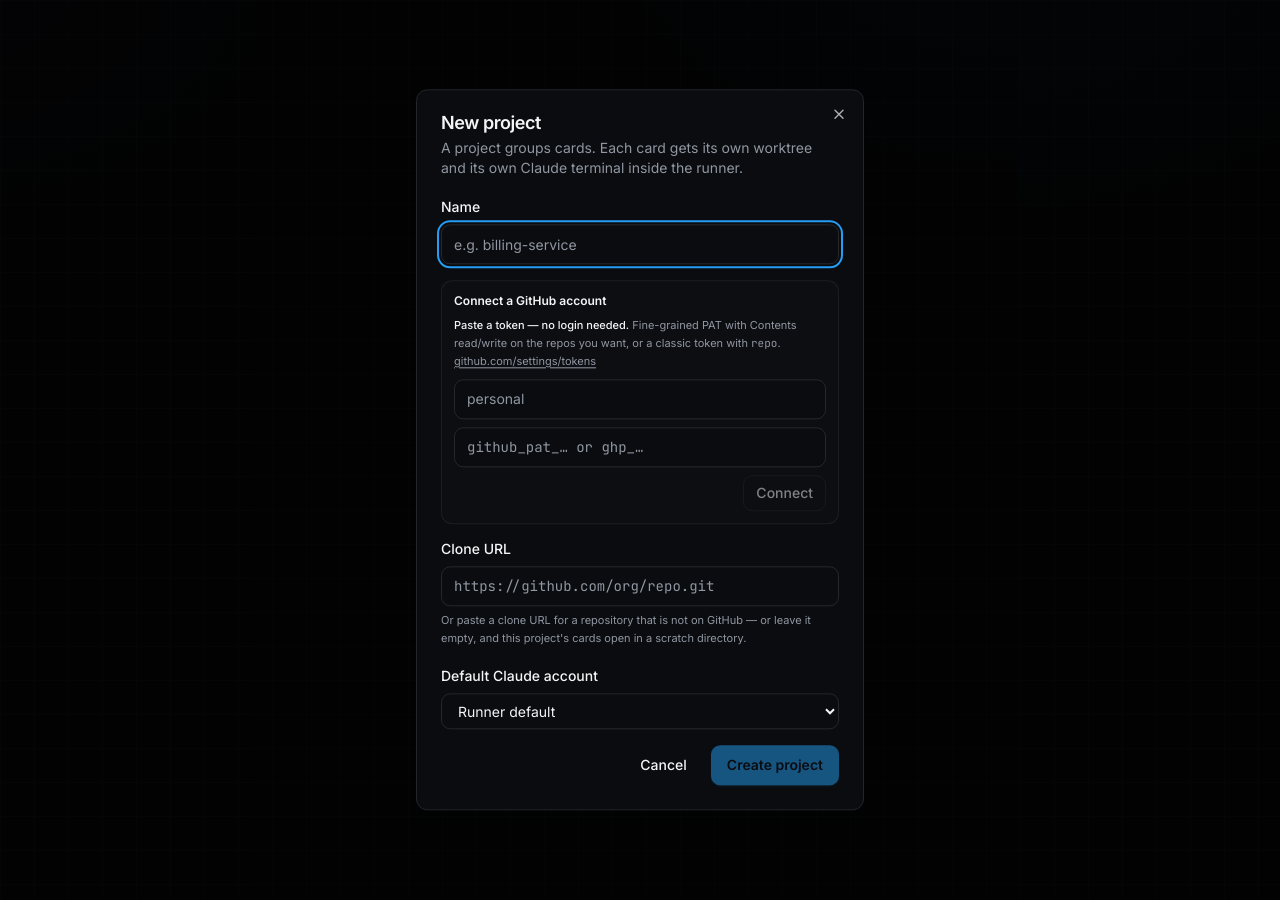
Test: ProjectFormDialog — connecting an account from inside the dialog › cannot be submitted without a token — the name is optional
The image size is (1280, 900).
Expected: the button "Connect" is disabled, [743,475,826,511]
Step 1. Type "ghp_x" into the password field named "Access token" → (640,447), box [454,427,826,467]
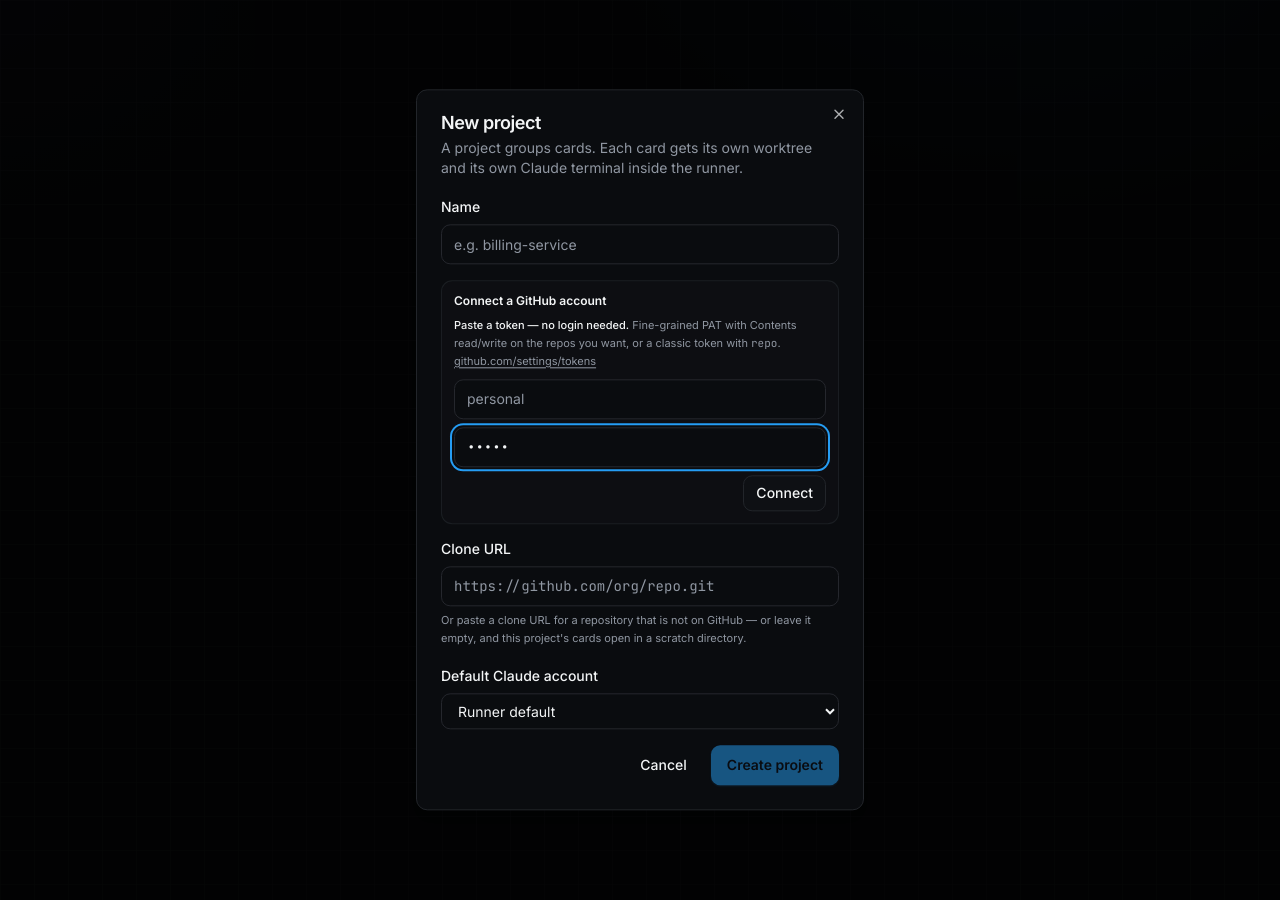
Expected: the button "Connect" is enabled, [743,475,826,511]
